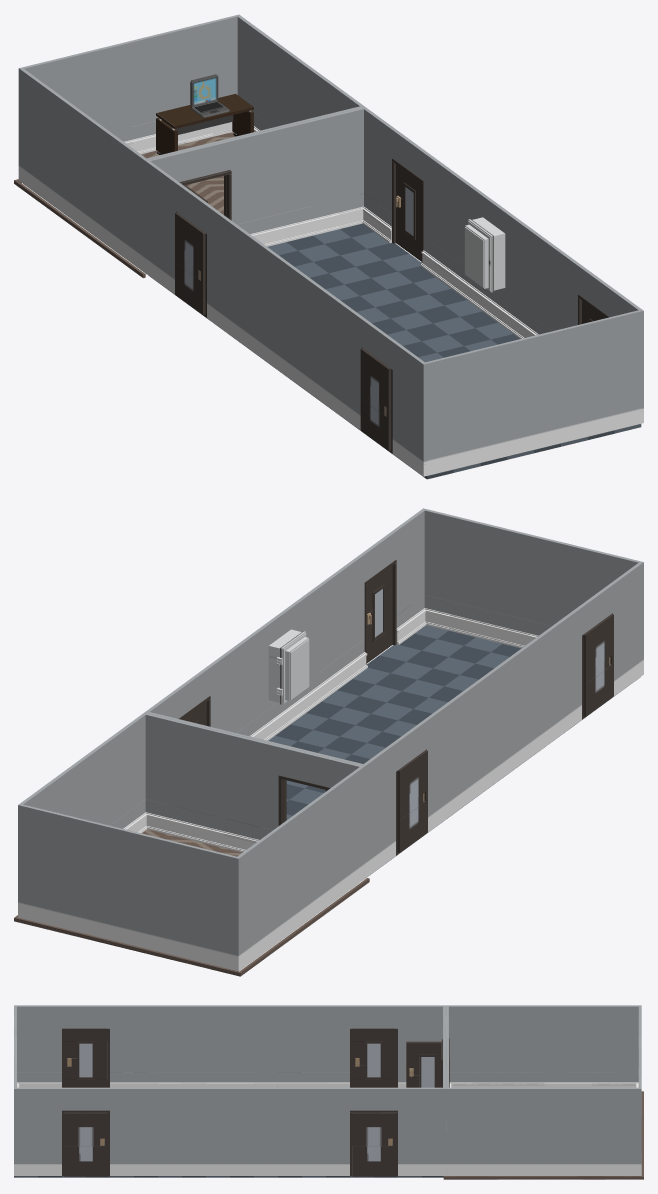
Rendered from NivelTutorial.fbx.
3 renders of one model, top to bottom at view 1: azimuth 30°, elevation 25°; view 2: azimuth 150°, elevation 25°; view 3: azimuth 270°, elevation 25°, orthographic. The views are drawn at different scales.
Parts seen in each view (by area): view 1: _2; view 2: _2; view 3: _2.
Part boxes in pixels (<box>): _2: <box>14,14,643,479</box>; _2: <box>14,508,643,976</box>; _2: <box>14,1005,643,1179</box>.
Size of the model in its own units: 540 by 264 by 1680.
Materials: 1 (1 with a texture image).
